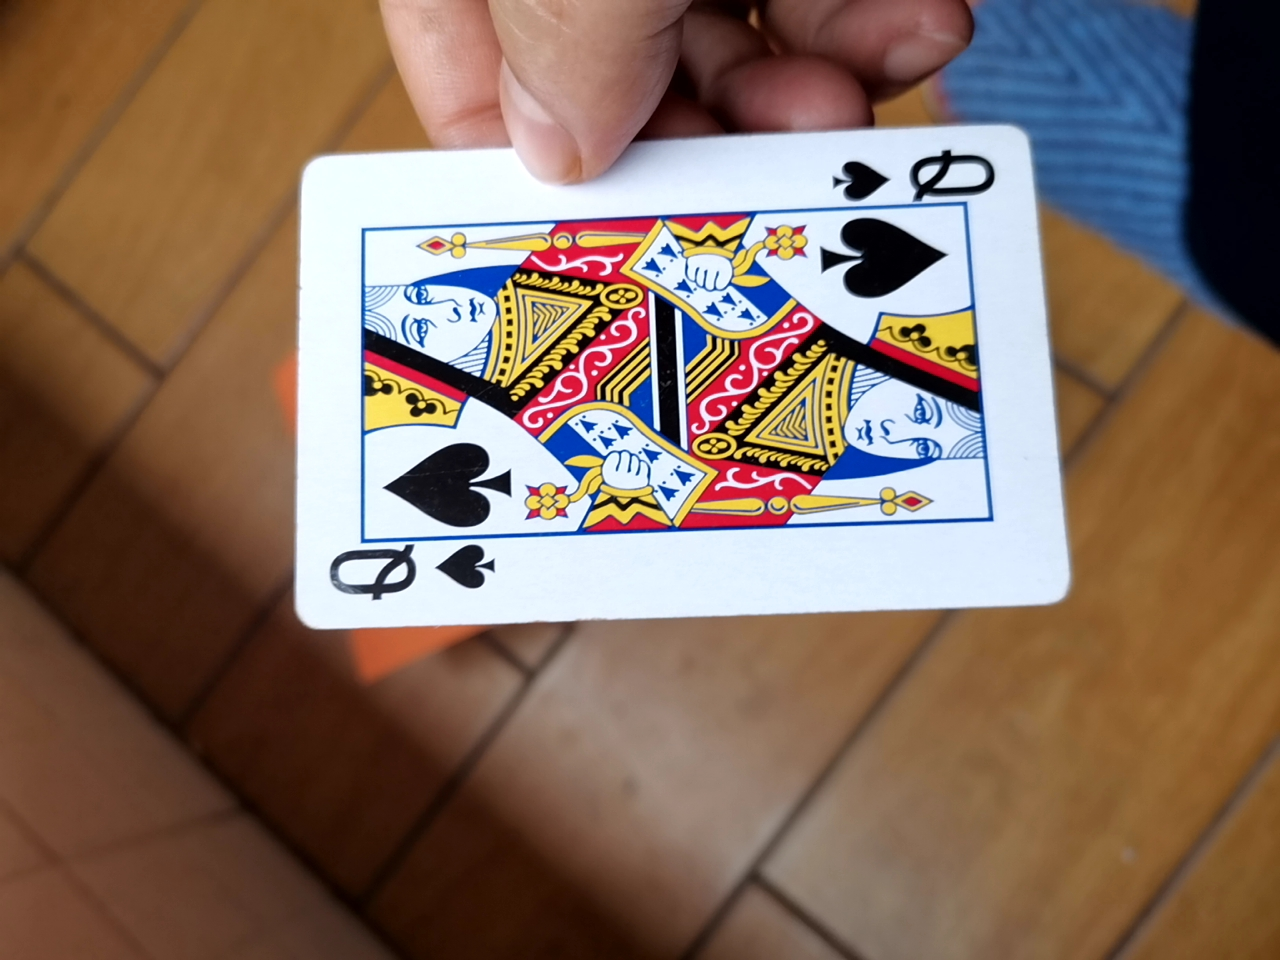ht q: (281, 127, 1071, 647)
